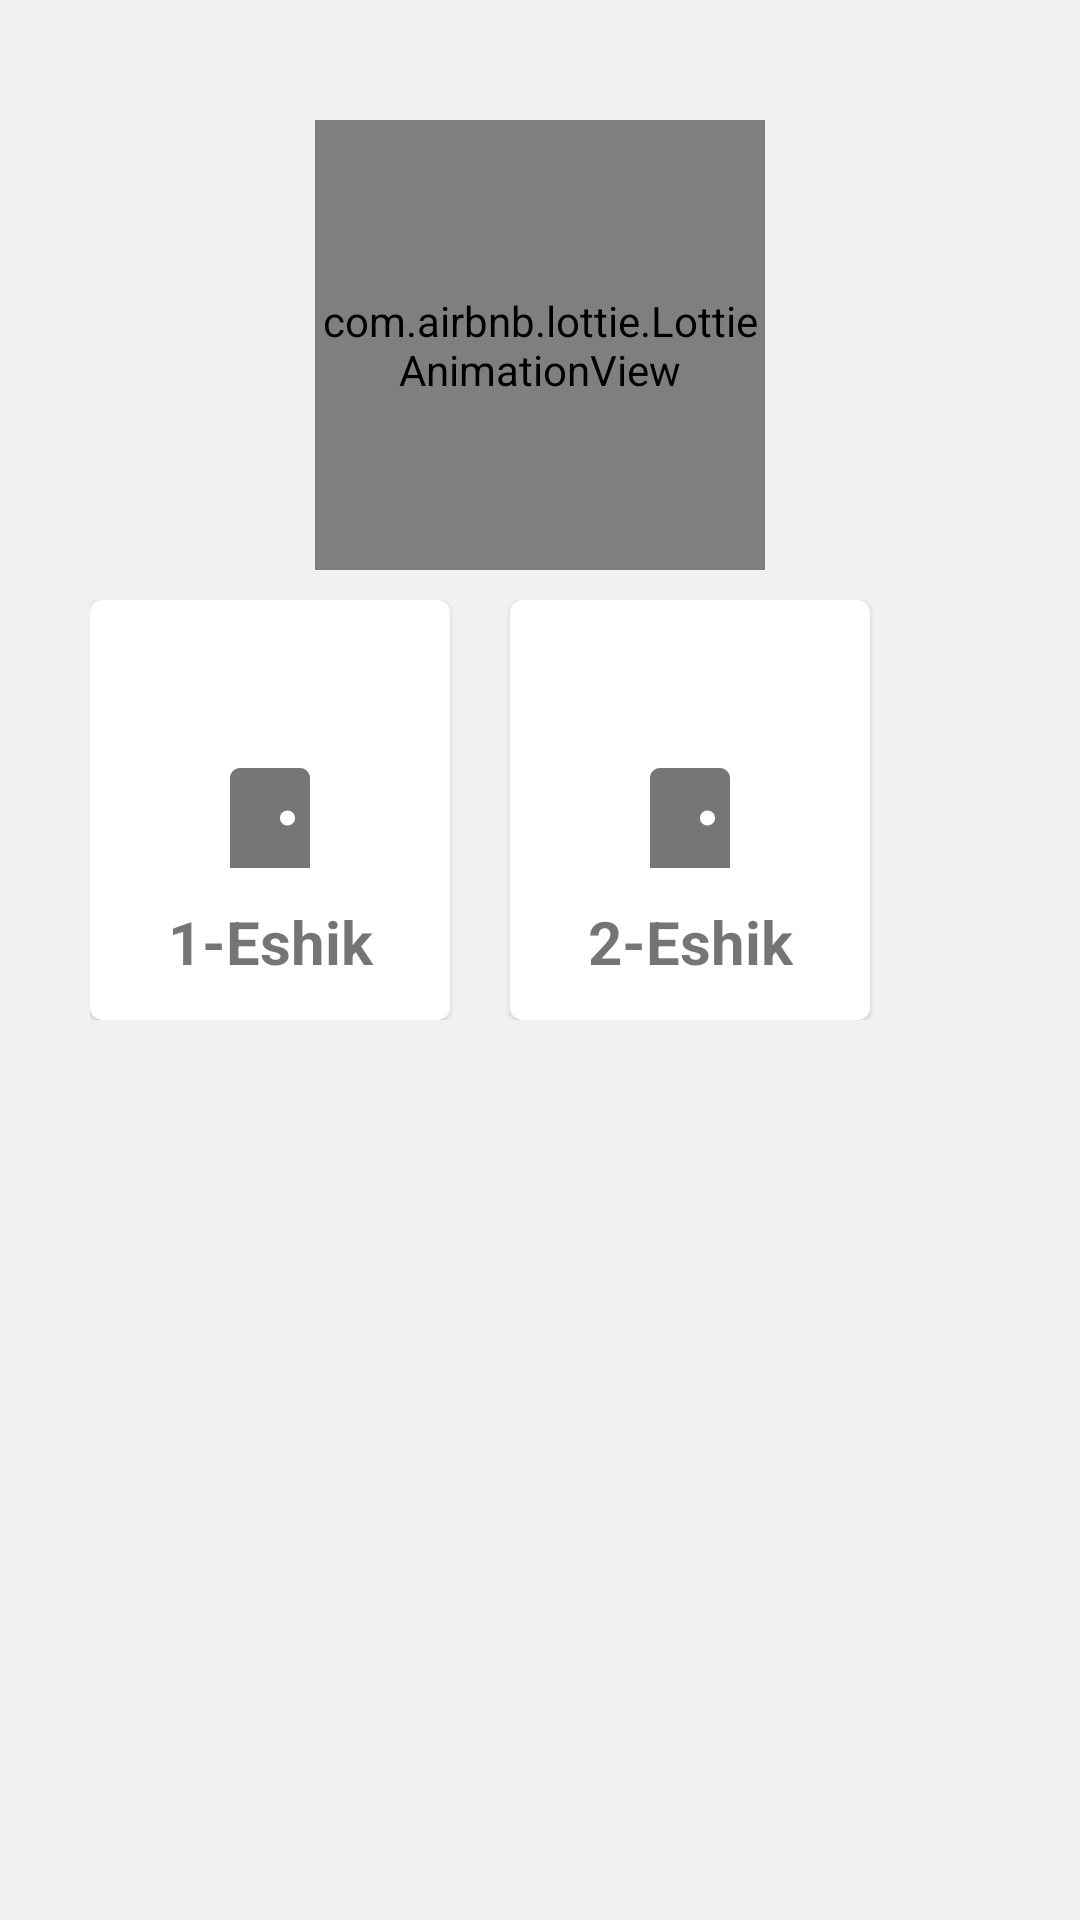

Where to tap for icons on this 1080 × 1920 app screen, as point (x, y):
door: point (270, 818), point (690, 818)
